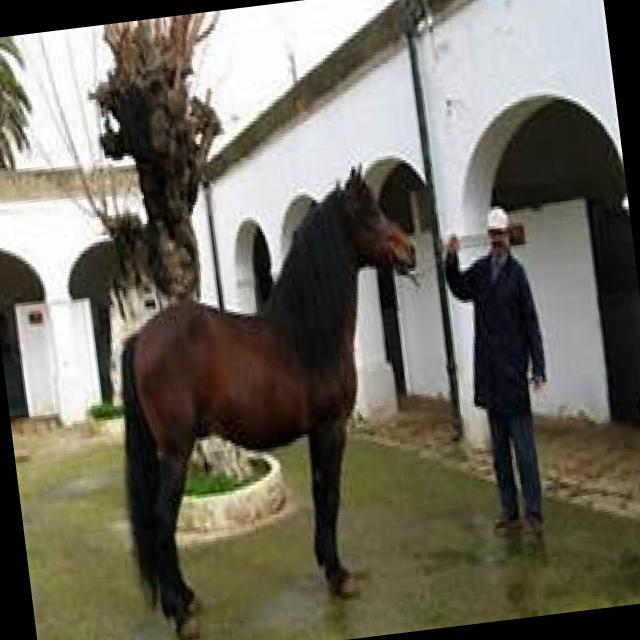animal: (87, 153, 460, 640)
